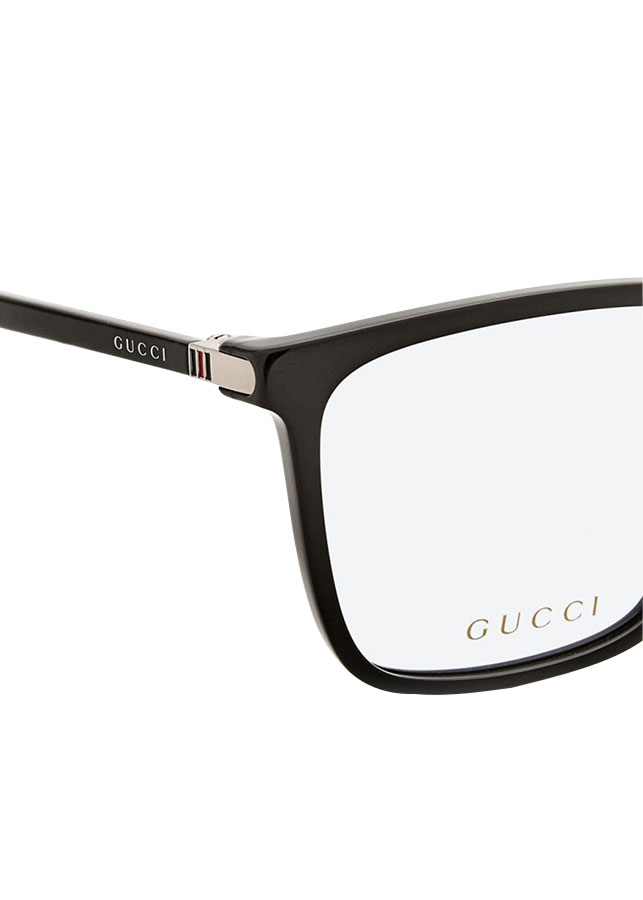Gucci: (461, 590, 605, 643), (105, 327, 179, 369)
